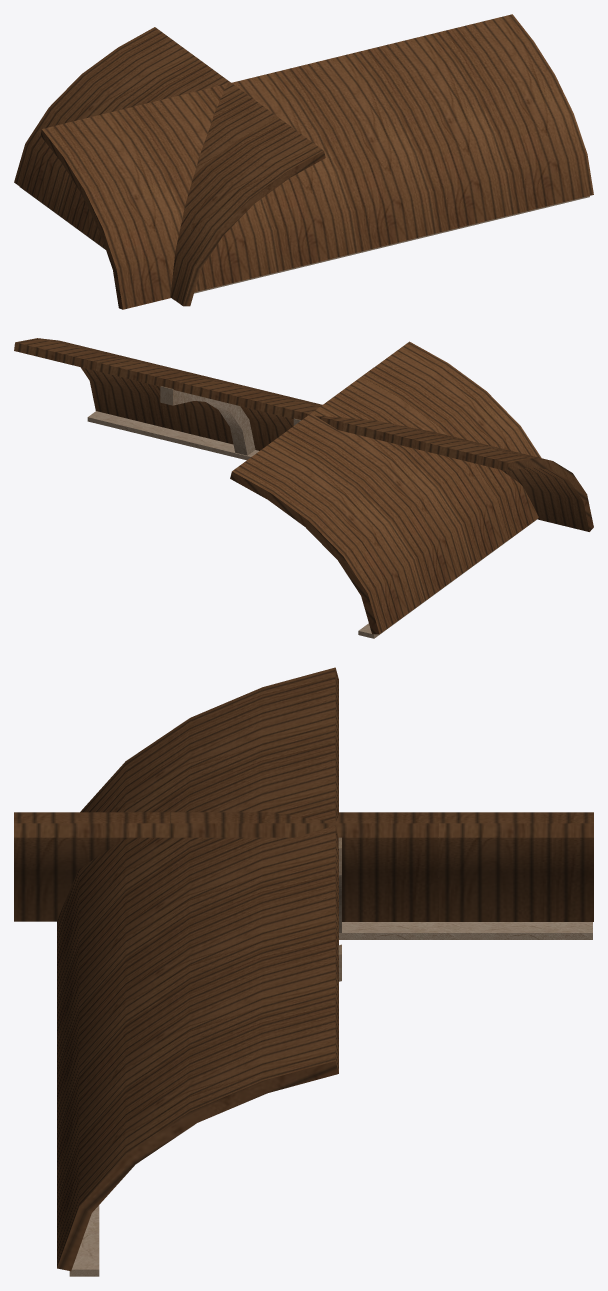
Rendered from Roomreverse.fbx.
The picture shows the model from 3 angles, top to bottom: view 1: azimuth 30°, elevation 25°; view 2: azimuth 150°, elevation 25°; view 3: azimuth 270°, elevation 25°; orthographic projection. The views are drawn at different scales.
Visible parts, largest first — view 1: M_Roof1_MedievalDiningRoom_FinalScene2:blinn7_0; view 2: M_Roof1_MedievalDiningRoom_FinalScene2:blinn7_0; view 3: M_Roof1_MedievalDiningRoom_FinalScene2:blinn7_0.
Part boxes in pixels (left/top/right/bottom): M_Roof1_MedievalDiningRoom_FinalScene2:blinn7_0: left=14, top=14, right=593, bottom=309; M_Roof1_MedievalDiningRoom_FinalScene2:blinn7_0: left=14, top=338, right=593, bottom=638; M_Roof1_MedievalDiningRoom_FinalScene2:blinn7_0: left=14, top=667, right=593, bottom=1276.
Bounding box in the file's own units: 444 × 114 × 277.
1 material, 1 textured.
